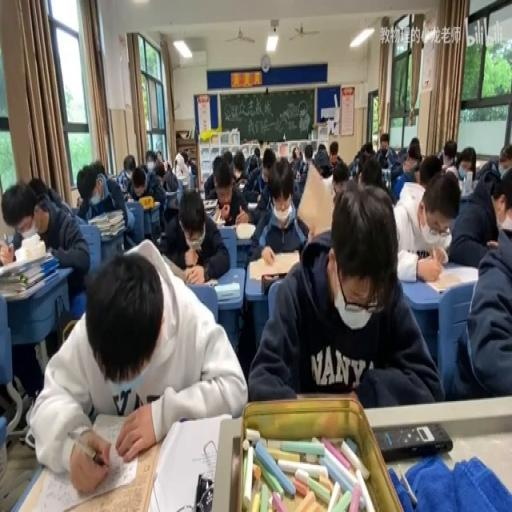calculator: (296, 162, 331, 239), (247, 250, 298, 280), (424, 264, 478, 292), (0, 250, 45, 279), (213, 282, 241, 300), (234, 222, 256, 240), (202, 196, 218, 212), (211, 205, 224, 223), (165, 189, 178, 205), (178, 174, 190, 188), (4, 232, 14, 246), (150, 199, 159, 209), (126, 196, 136, 205), (247, 201, 258, 209), (198, 189, 206, 199)
paper: (30, 240, 244, 488), (246, 180, 438, 406), (2, 176, 88, 316), (392, 165, 458, 277), (0, 296, 35, 503), (450, 159, 510, 269), (162, 185, 228, 281), (76, 158, 133, 252), (126, 161, 168, 232), (240, 149, 265, 202), (397, 135, 422, 178), (358, 154, 384, 186), (416, 153, 442, 185), (330, 158, 350, 199), (160, 156, 179, 192), (116, 154, 134, 192), (374, 132, 394, 166), (438, 138, 458, 172), (27, 175, 50, 200), (457, 148, 476, 176), (290, 145, 306, 178), (260, 147, 276, 179), (232, 150, 246, 180), (348, 154, 362, 179), (327, 141, 339, 168), (499, 150, 511, 170), (187, 159, 197, 179), (361, 142, 373, 158), (154, 159, 164, 178), (221, 148, 233, 163), (94, 158, 104, 175), (319, 162, 331, 176), (212, 154, 221, 170), (303, 144, 312, 160), (146, 156, 155, 170), (155, 149, 163, 162), (182, 154, 188, 169), (318, 144, 326, 154), (253, 145, 259, 157), (298, 152, 302, 161)
person: (374, 422, 451, 461), (194, 471, 214, 509)
